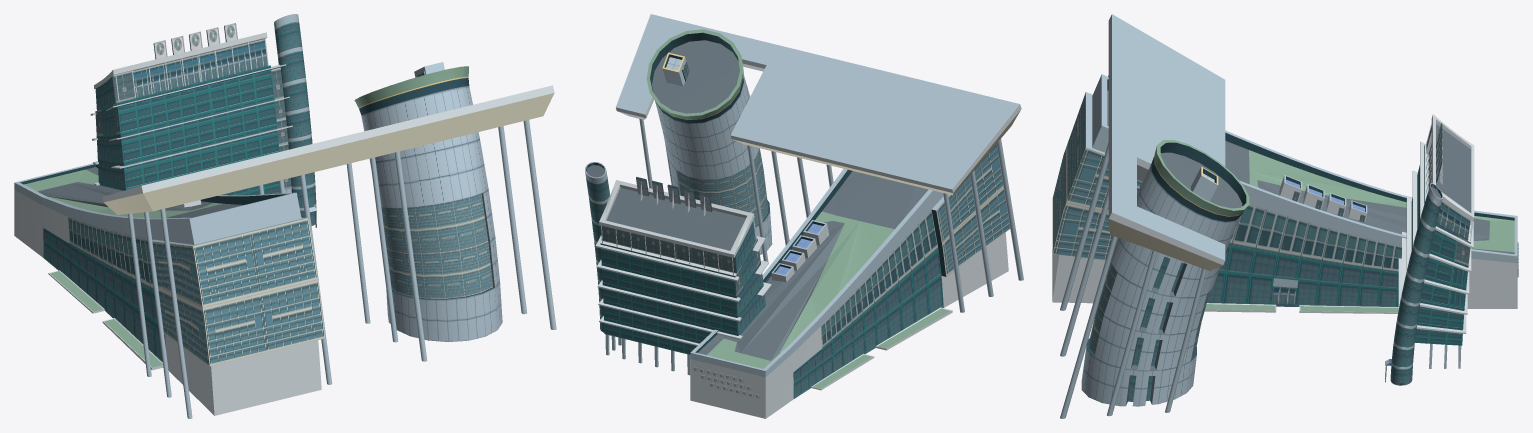
The model's file is Cityhole.FBX.
The picture shows the model from 3 angles, left to right: view 1: azimuth 30°, elevation 25°; view 2: azimuth 150°, elevation 25°; view 3: azimuth 270°, elevation 25°; orthographic projection. The views are drawn at different scales.
Parts seen in each view (by area): view 1: cityhall; view 2: cityhall; view 3: cityhall.
Boxes of the visible parts, x1,y1,x2,y2 form: cityhall: [14, 14, 556, 418]; cityhall: [585, 14, 1023, 418]; cityhall: [1052, 14, 1518, 418].
Size of the model in its own units: 3238 by 1800 by 3216.
